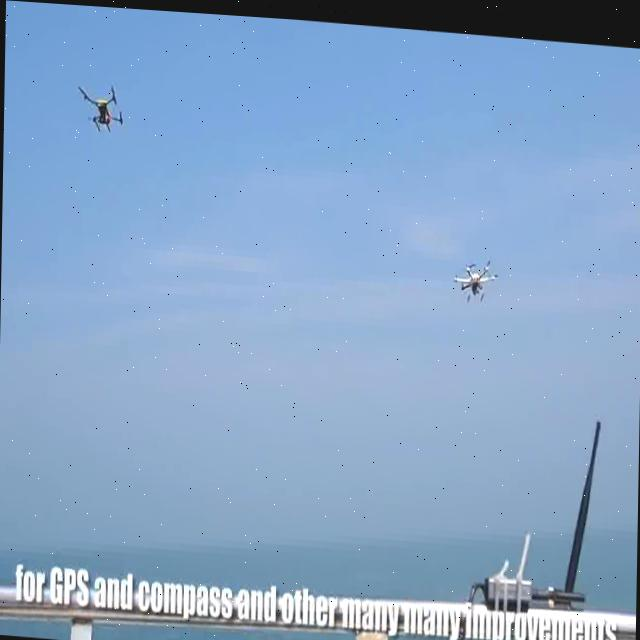drone: (74, 74, 125, 132), (449, 247, 496, 298)
